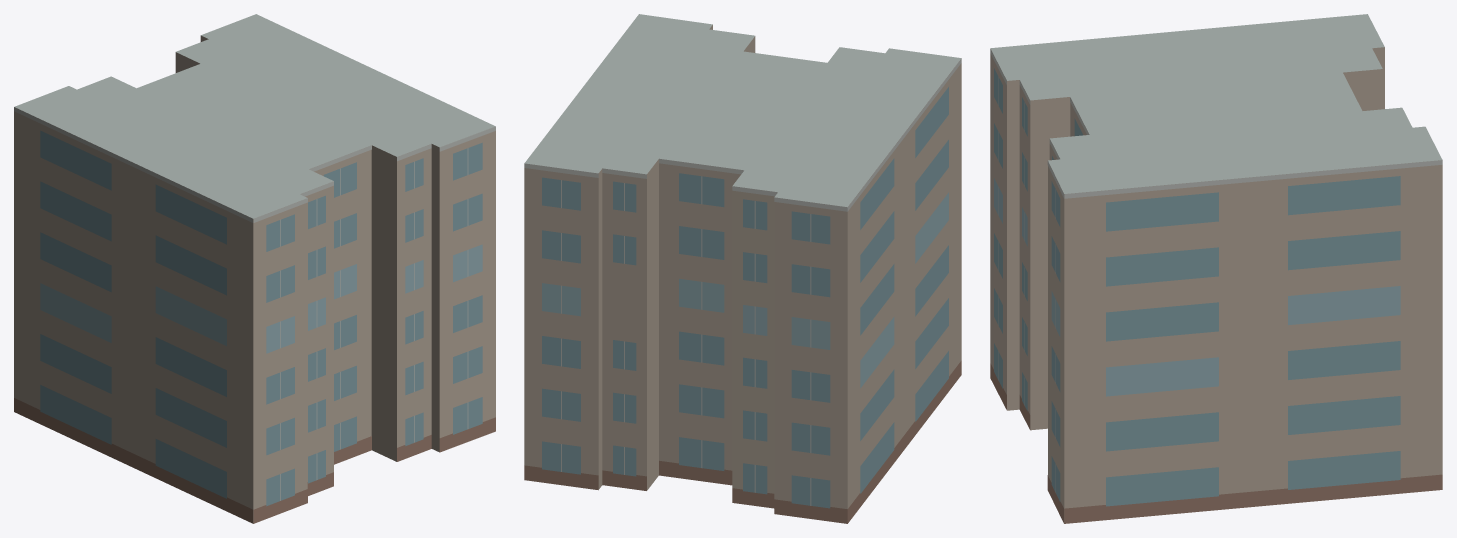
File: survey-upis-32699318.glb
3 views of the same model, side by side, from view 1: azimuth 30°, elevation 25°; view 2: azimuth 150°, elevation 25°; view 3: azimuth 270°, elevation 25° (orthographic). The views are drawn at different scales.
Parts seen in each view (by area): view 1: survey-upis-32699318.tmp; view 2: survey-upis-32699318.tmp; view 3: survey-upis-32699318.tmp.
Part boxes in pixels (x1,y1,x2,y2): survey-upis-32699318.tmp: (14, 14, 495, 523); survey-upis-32699318.tmp: (524, 14, 961, 523); survey-upis-32699318.tmp: (990, 14, 1442, 523).
Size of the model in its own units: 19.92 by 17 by 21.14.
